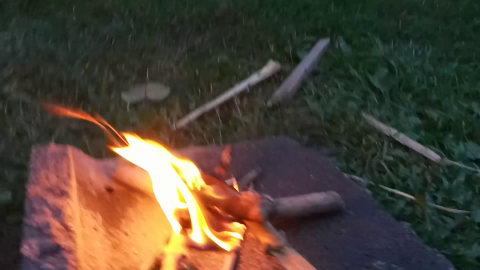fire: (36, 96, 219, 230)
